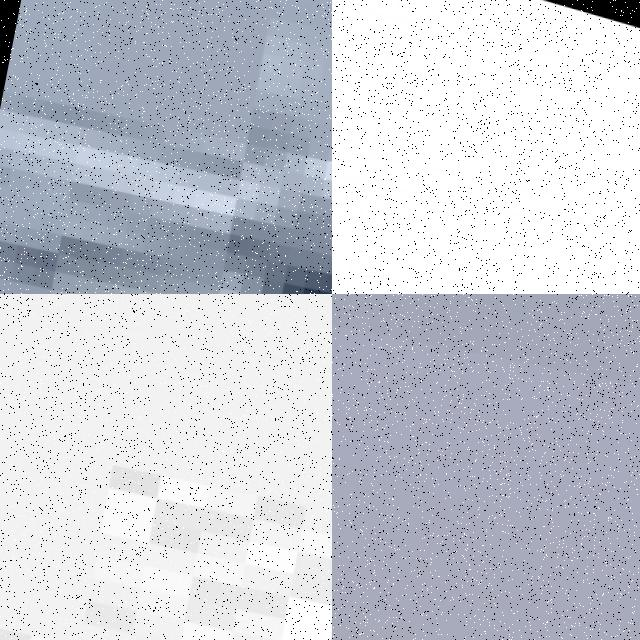drone: (0, 294, 332, 640), (0, 0, 332, 294), (332, 0, 640, 294)
